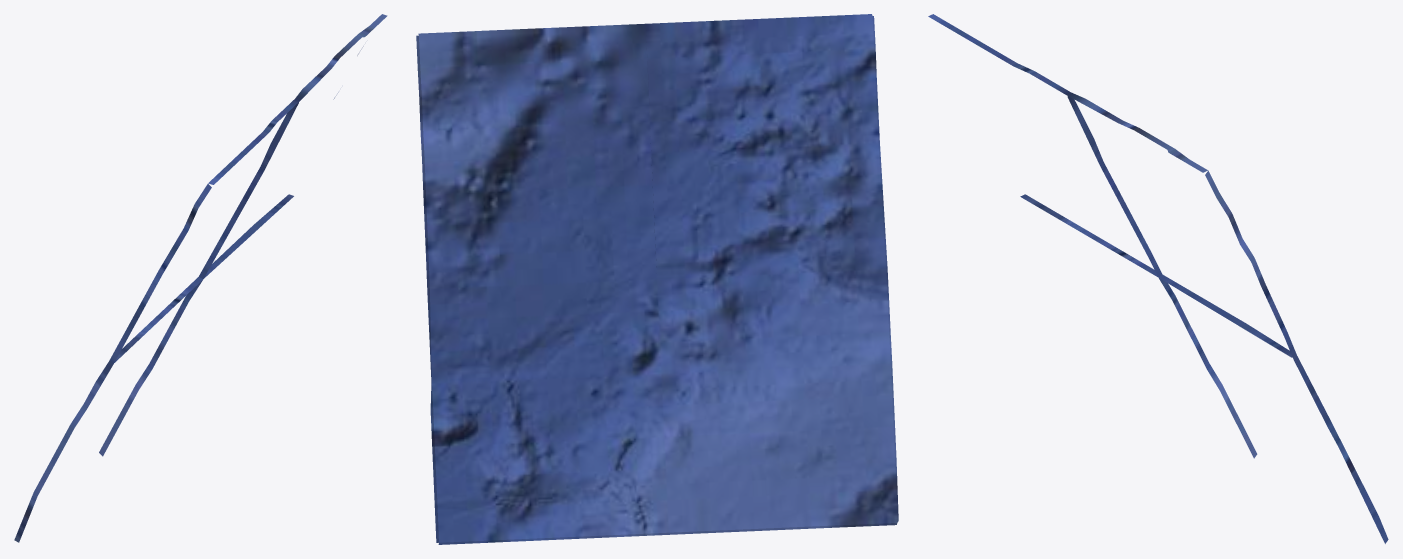
3 views of the same model, side by side, from view 1: azimuth 30°, elevation 25°; view 2: azimuth 150°, elevation 25°; view 3: azimuth 270°, elevation 25° (orthographic). The views are drawn at different scales.
Size of the model in its own units: 155690 by 143229 by 139798.
Materials: 1 (1 with a texture image).
